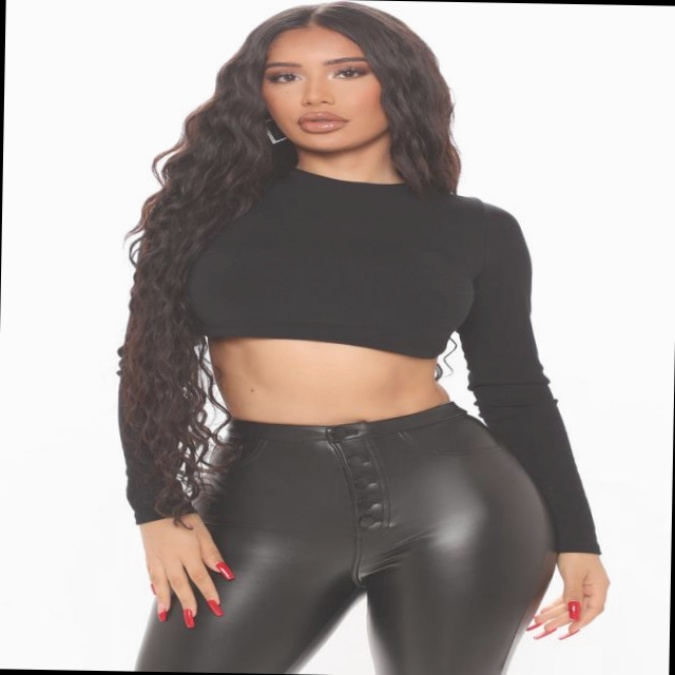Crop_Top: (192, 181, 468, 430)
